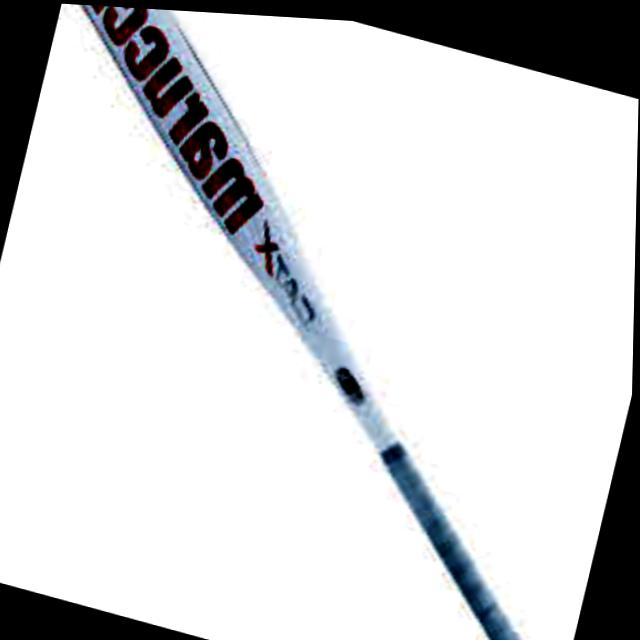baseball bat: (79, 4, 546, 640)
